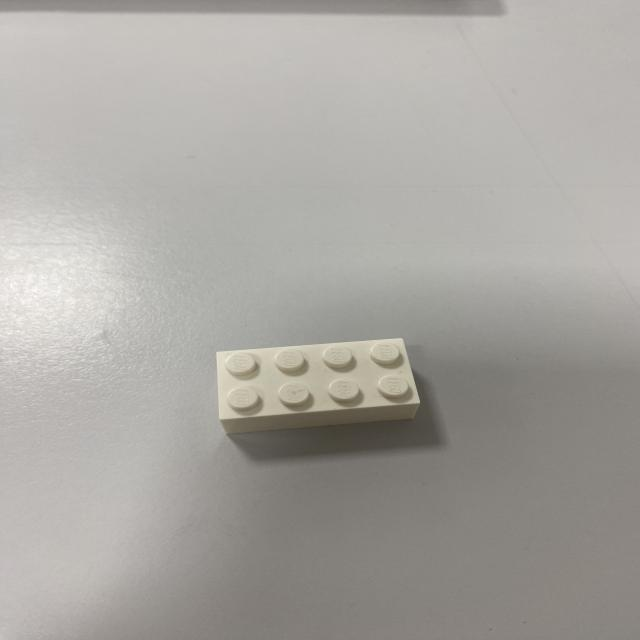C4x2x1: (214, 337, 420, 419), (221, 404, 420, 434)
